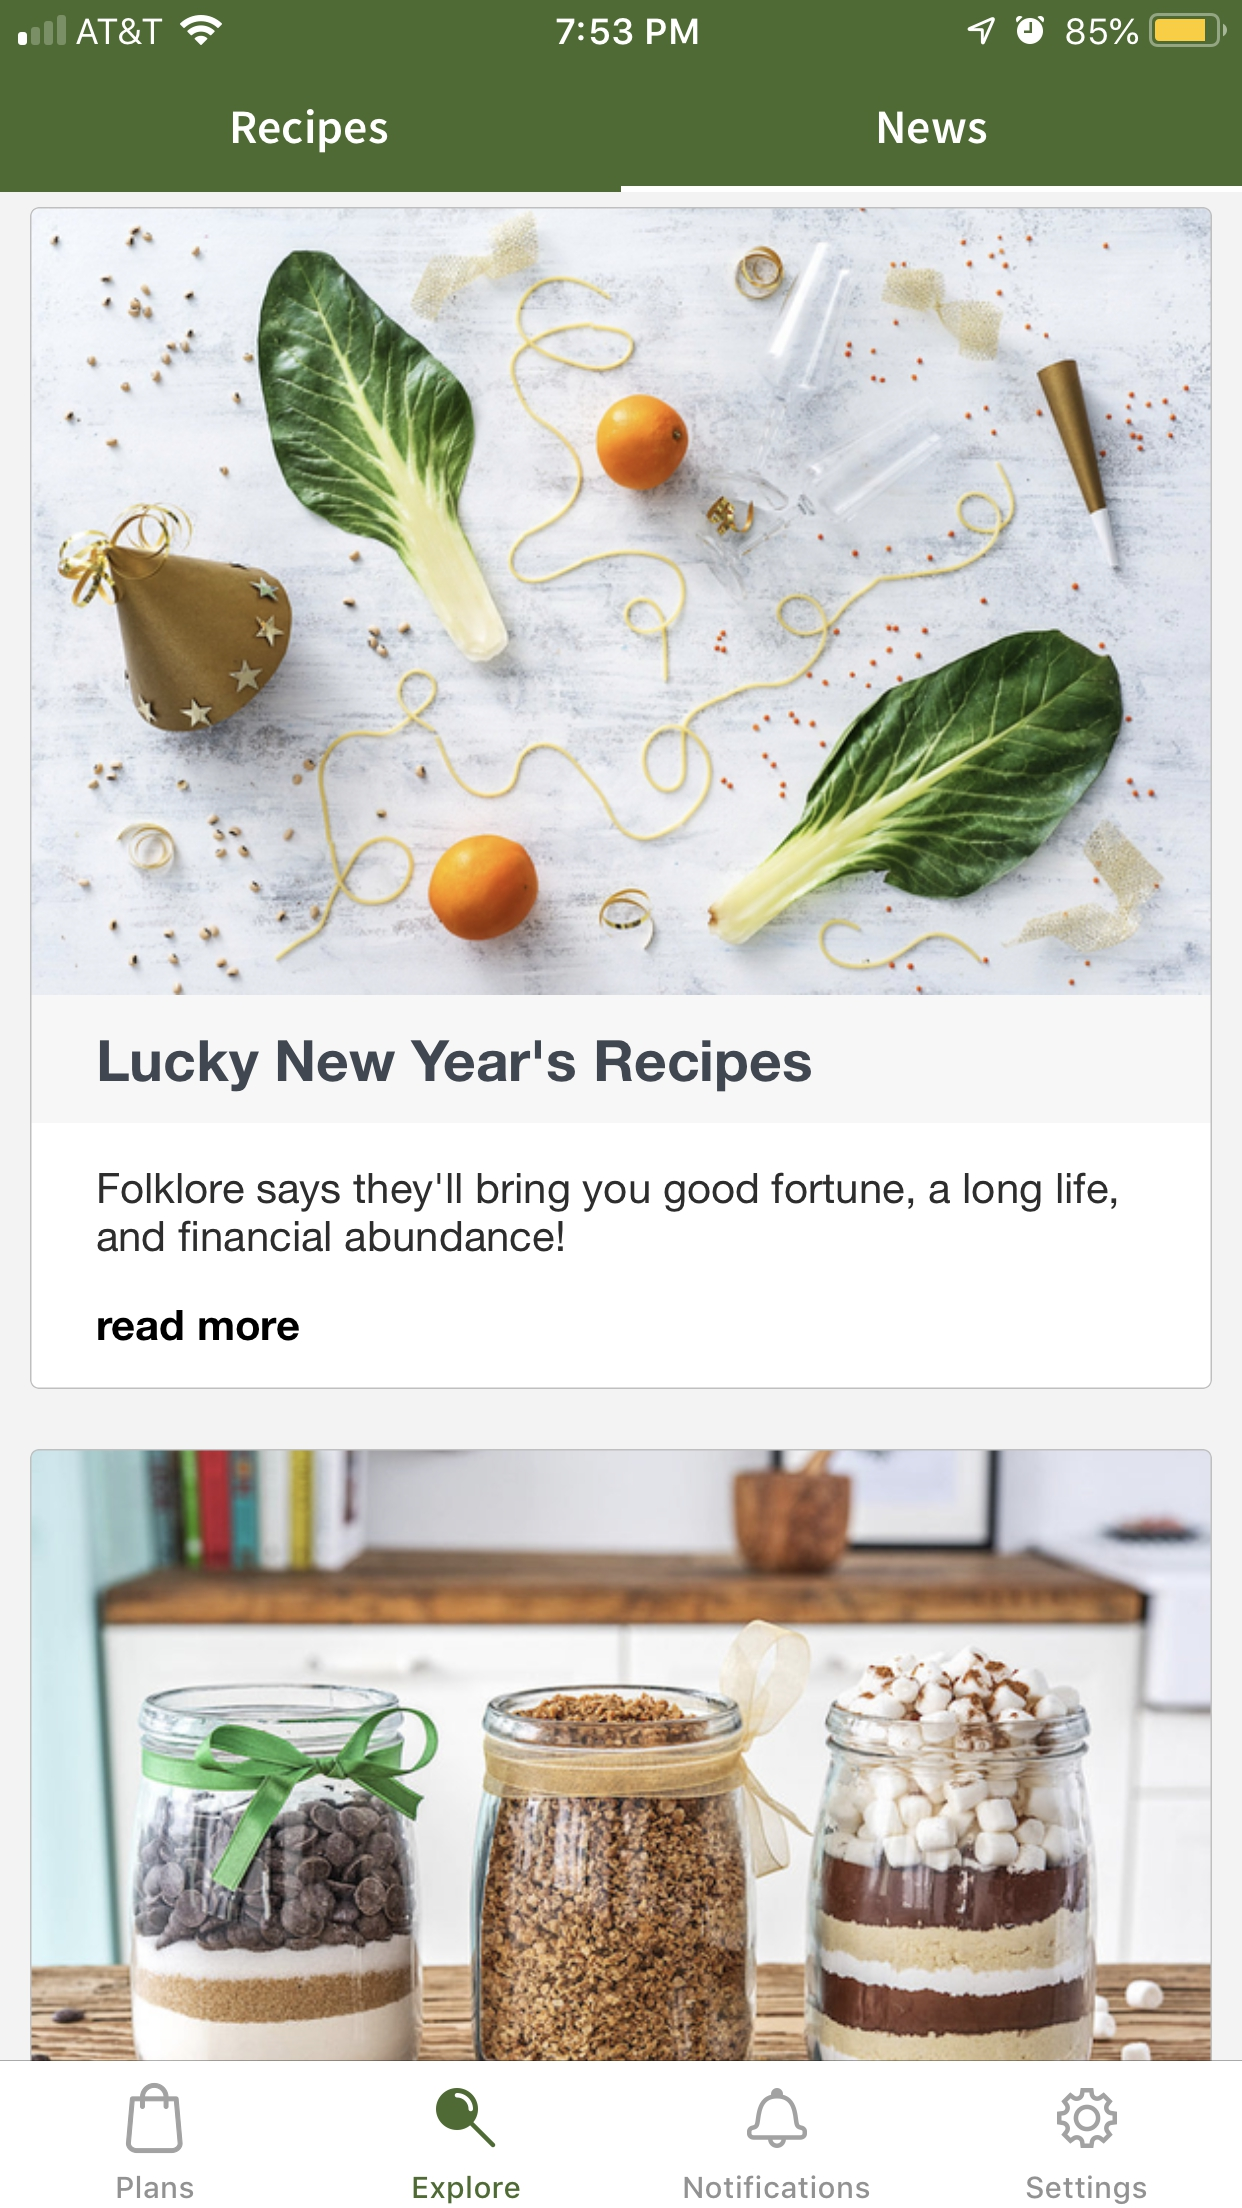Icon: (126, 2082, 185, 2153), (746, 2087, 808, 2149), (435, 2087, 496, 2147), (1057, 2088, 1118, 2149)
Image: (32, 209, 1210, 996), (32, 1450, 1210, 2059)
Text: (97, 1172, 1118, 1253), (99, 1040, 811, 1093), (234, 109, 390, 155), (99, 1309, 300, 1342), (684, 2175, 870, 2199), (878, 111, 987, 146), (1027, 2175, 1146, 2205), (412, 2176, 522, 2205), (118, 2175, 196, 2199)
UpperTaskBar: (2, 2, 1242, 49)
